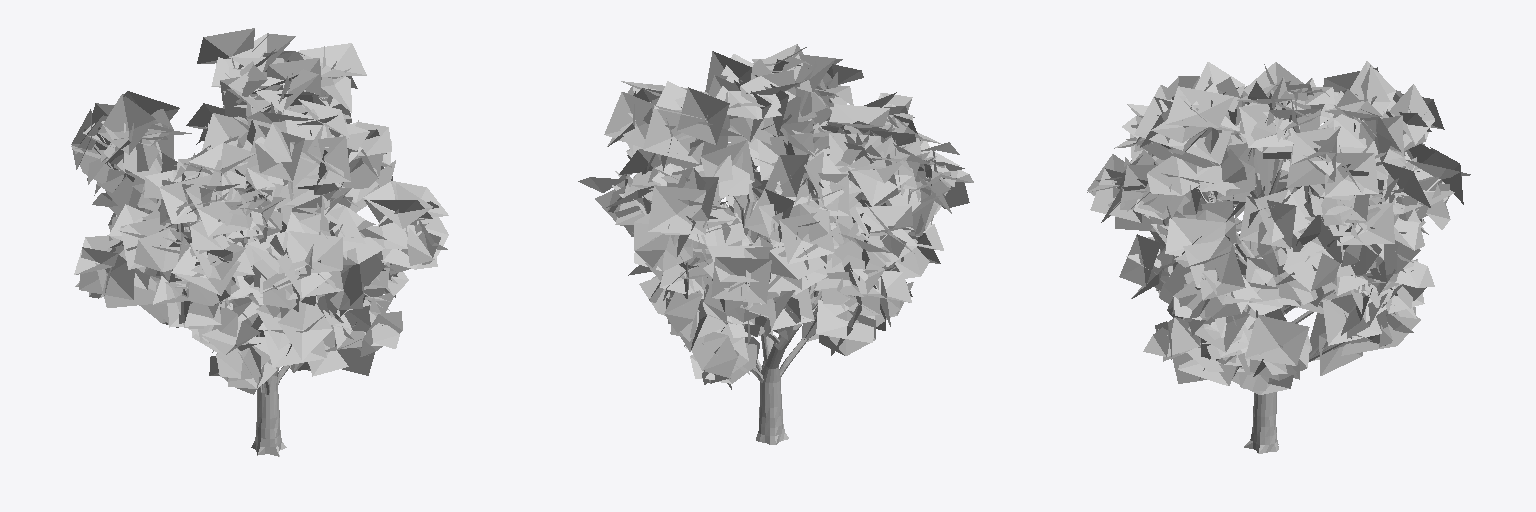
Rendered from tree.obj.
The picture shows the model from 3 angles: view 1: azimuth 30°, elevation 25°; view 2: azimuth 150°, elevation 25°; view 3: azimuth 270°, elevation 25°; orthographic projection.
Parts seen in each view (by area): view 1: LOD0SG; view 2: LOD0SG; view 3: LOD0SG.
Boxes of the visible parts, x1=… form: LOD0SG: x1=71, y1=28, x2=448, y2=456; LOD0SG: x1=578, y1=44, x2=973, y2=444; LOD0SG: x1=1087, y1=61, x2=1470, y2=453.
Size of the model in its own units: 14.22 by 15.7 by 14.58.